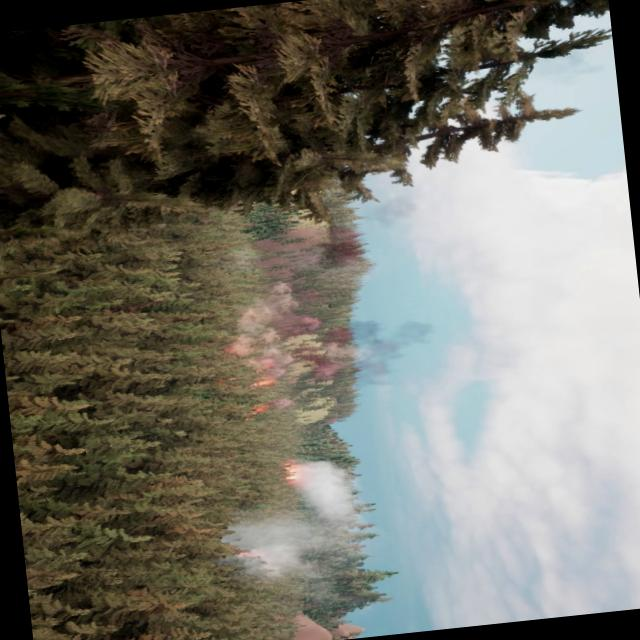fire: (218, 354, 288, 422), (284, 458, 303, 483)
smoke: (213, 460, 370, 587), (256, 310, 446, 390)
